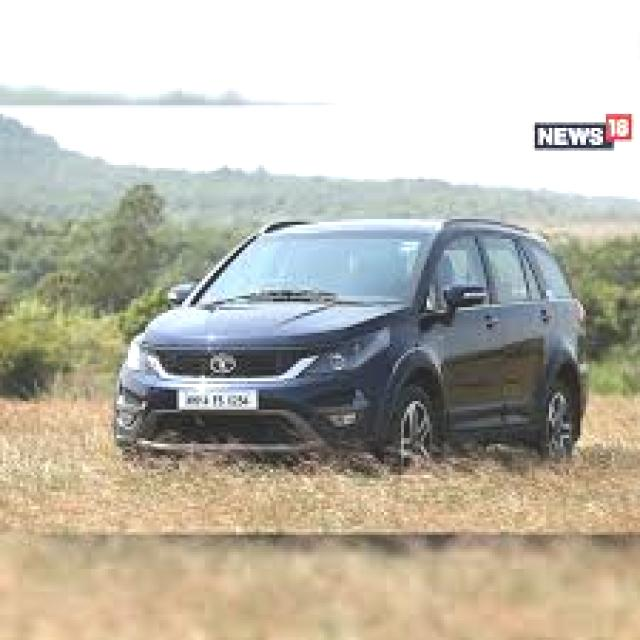SUV: (114, 222, 596, 472)
